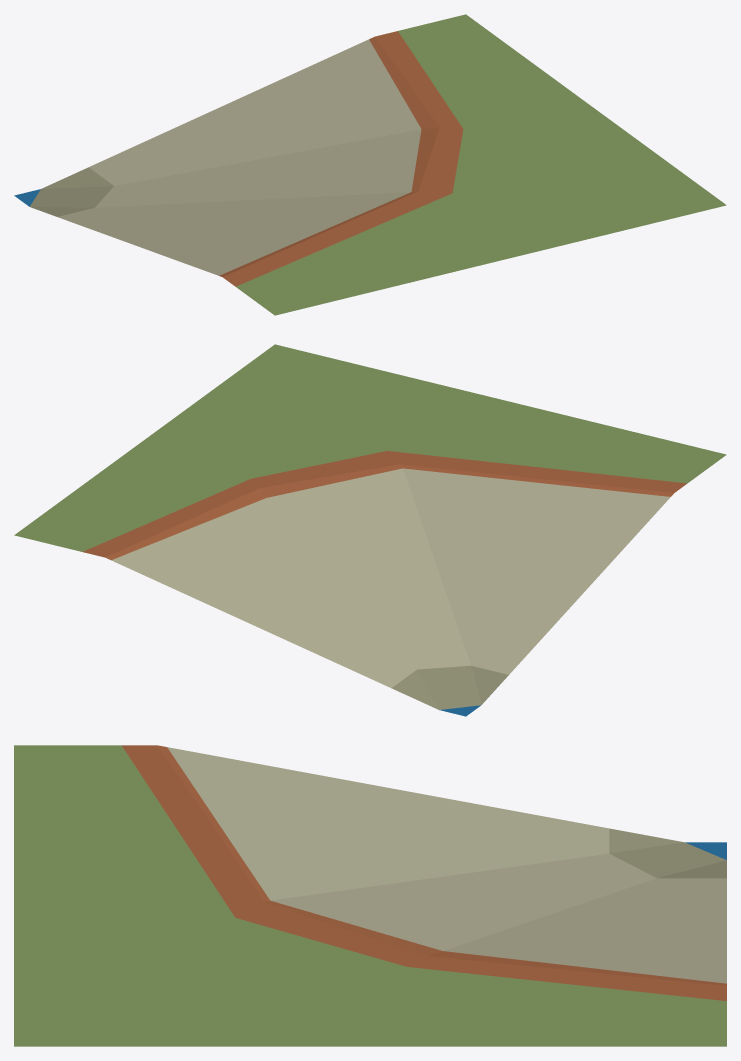
The model's file is SA_ENV_BeachSection_InnerCorner_01.gltf.
3 views of the same model, one above another, from view 1: azimuth 30°, elevation 25°; view 2: azimuth 150°, elevation 25°; view 3: azimuth 270°, elevation 25° (orthographic). The views are drawn at different scales.
Parts seen in each view (by area): view 1: SA_ENV_BeachSection_InnerCorner_01; view 2: SA_ENV_BeachSection_InnerCorner_01; view 3: SA_ENV_BeachSection_InnerCorner_01.
Part boxes in pixels (x1,y1,x2,y2): SA_ENV_BeachSection_InnerCorner_01: [14, 14, 726, 315]; SA_ENV_BeachSection_InnerCorner_01: [14, 344, 726, 716]; SA_ENV_BeachSection_InnerCorner_01: [14, 745, 726, 1046].
Size of the model in its own units: 20 by 3 by 20.
1 material, 1 textured.
